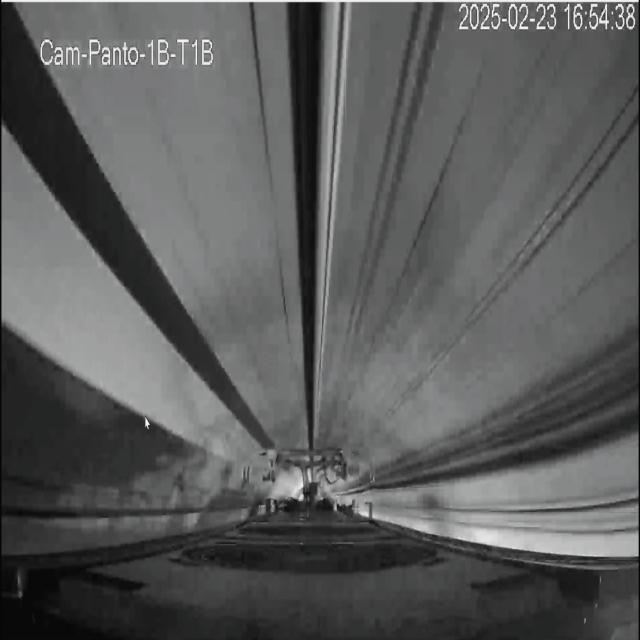Camera Stamp: (36, 29, 221, 69)
Date Stamp: (458, 3, 637, 33)
